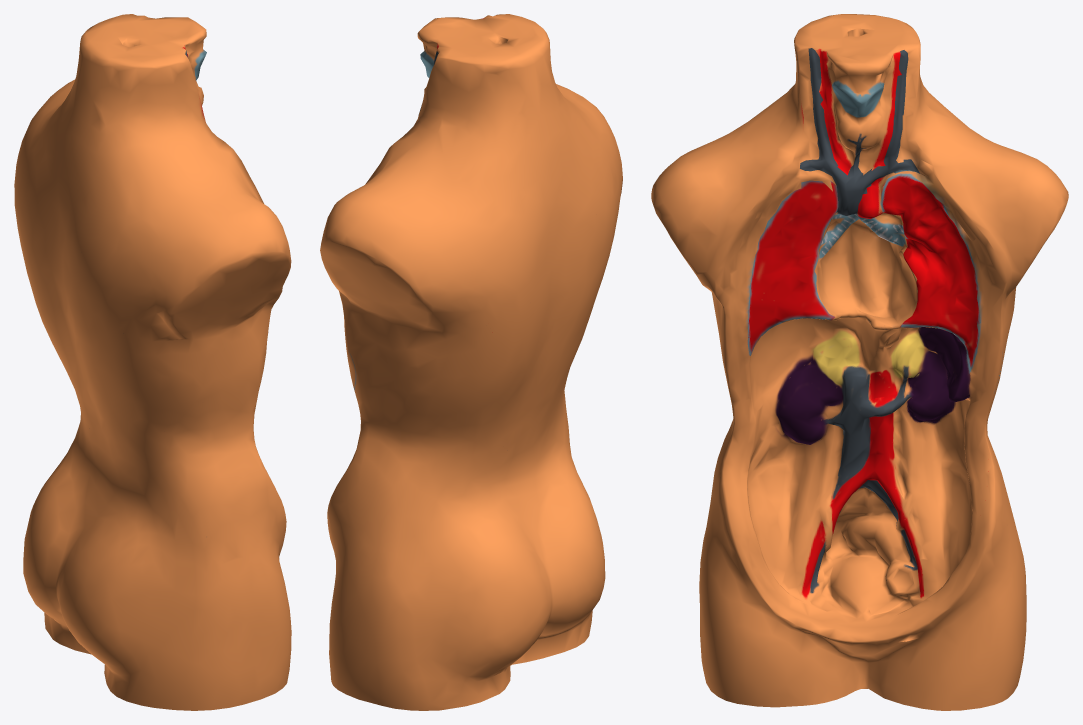
The model's file is jintaimokei0.7MB.glb.
3 views of the same model, side by side, from view 1: azimuth 30°, elevation 25°; view 2: azimuth 150°, elevation 25°; view 3: azimuth 270°, elevation 25° (orthographic).
Parts seen in each view (by area): view 1: 人体模型; view 2: 人体模型; view 3: 人体模型.
Boxes of the visible parts, bbox=[...] form: 人体模型: bbox=[14, 14, 291, 710]; 人体模型: bbox=[320, 14, 622, 710]; 人体模型: bbox=[651, 14, 1068, 710].
Bounding box in the file's own units: 105 × 327 × 198.
1 material, 1 textured.
